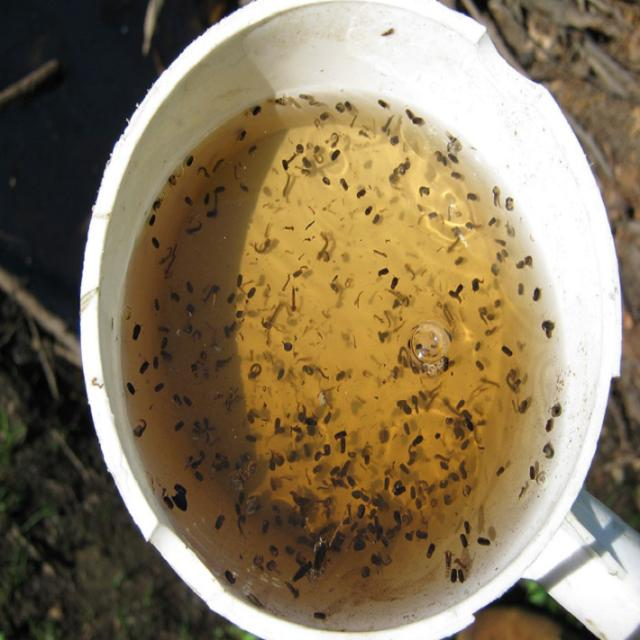Breeding Place: (80, 0, 635, 640)
